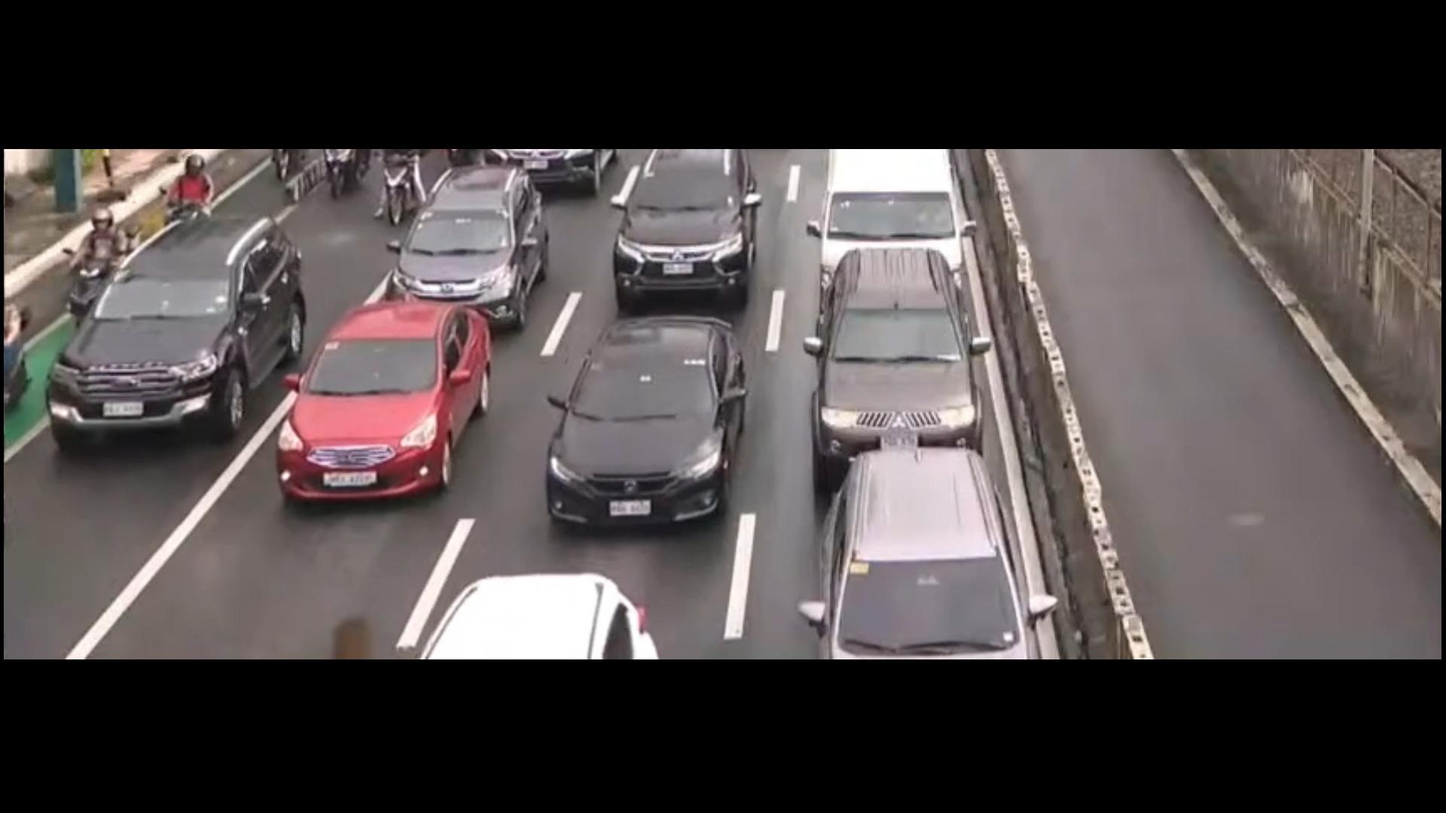Motorcycle: (54, 200, 134, 322), (167, 153, 224, 232), (379, 149, 441, 218), (324, 149, 372, 198)
SUV: (22, 194, 320, 464), (786, 245, 998, 483), (819, 439, 1038, 658), (358, 158, 560, 333), (616, 147, 774, 315)
Sedan: (262, 281, 522, 556), (533, 300, 759, 548)
